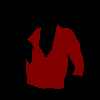maglione: (25, 24, 84, 88)
